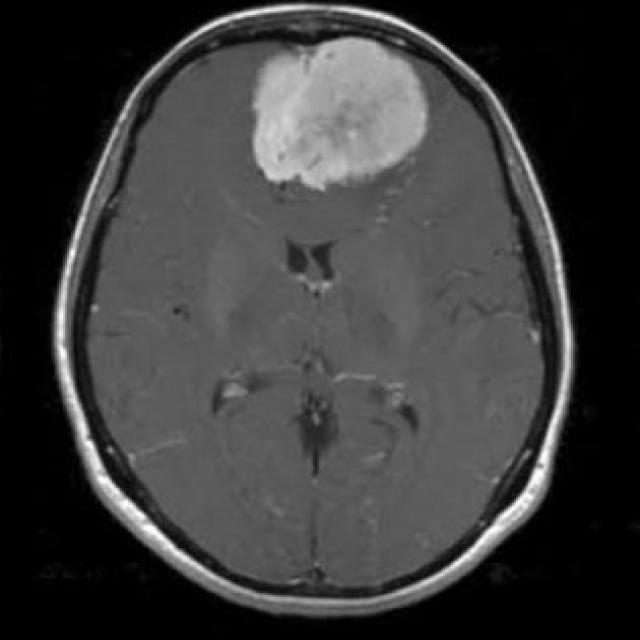brain_tumor: (253, 39, 428, 189)
